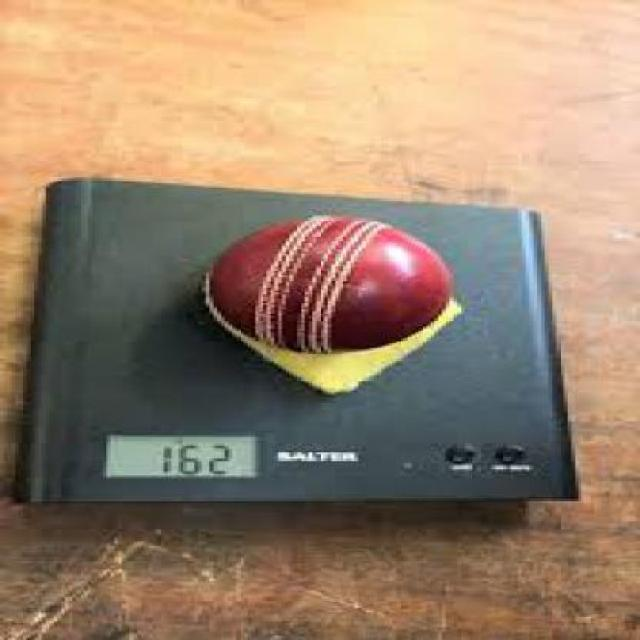ball: (212, 182, 460, 376)
